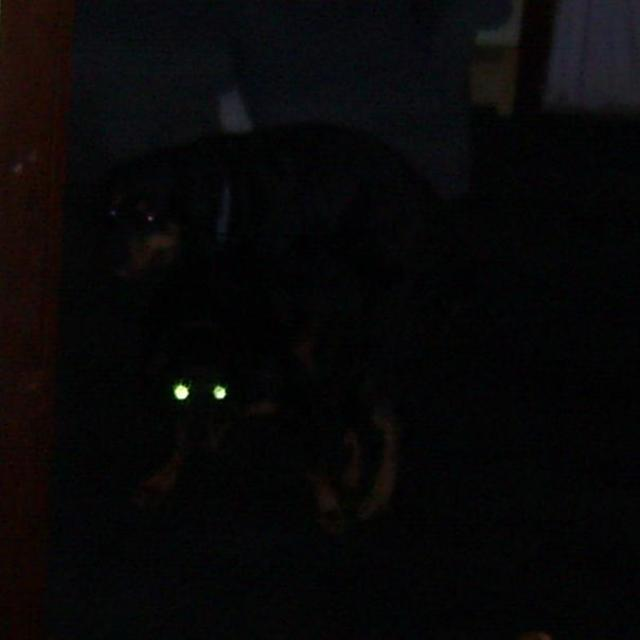Dog: (133, 288, 311, 592)
